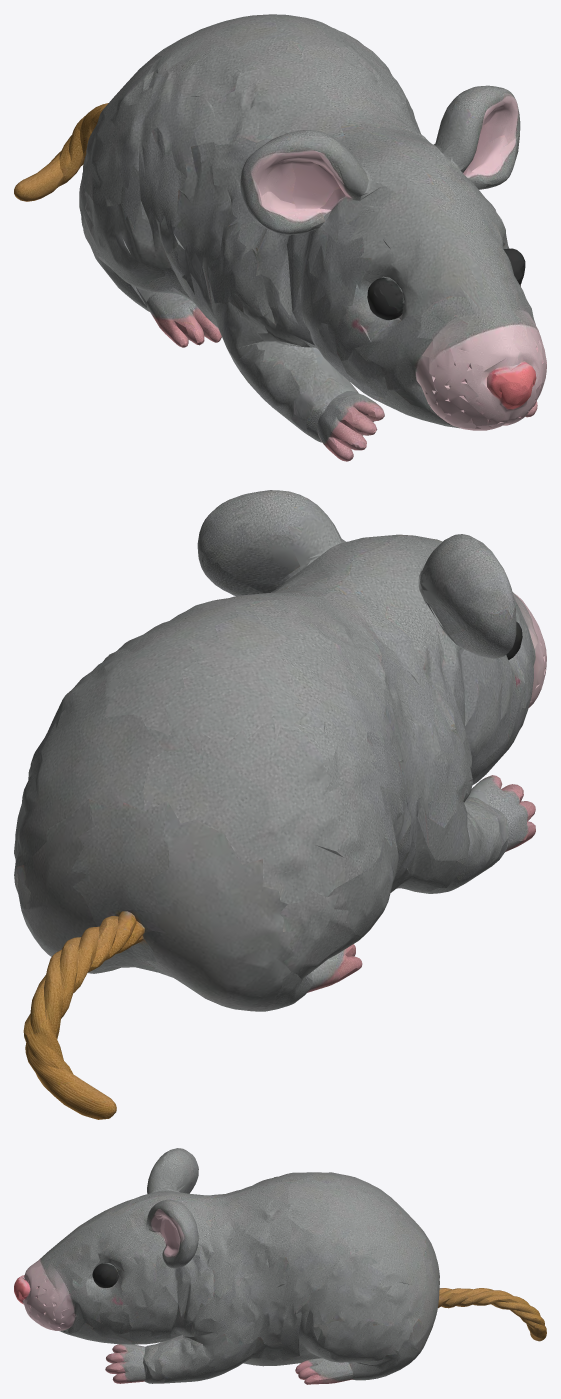
The model's file is felt-mouse-master.glb.
The picture shows the model from 3 angles, top to bottom: view 1: azimuth 30°, elevation 25°; view 2: azimuth 150°, elevation 25°; view 3: azimuth 270°, elevation 25°; orthographic projection. The views are drawn at different scales.
Size of the model in its own units: 0.7392 by 0.7146 by 1.9.
1 material, 1 textured.
